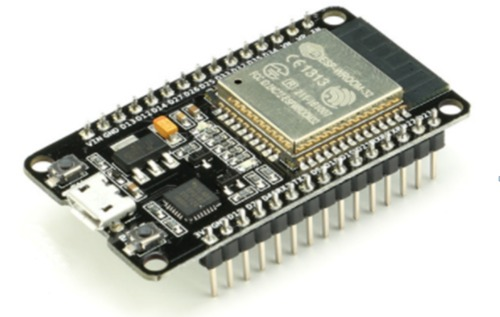ESP32-WROOM: (15, 6, 472, 312)
